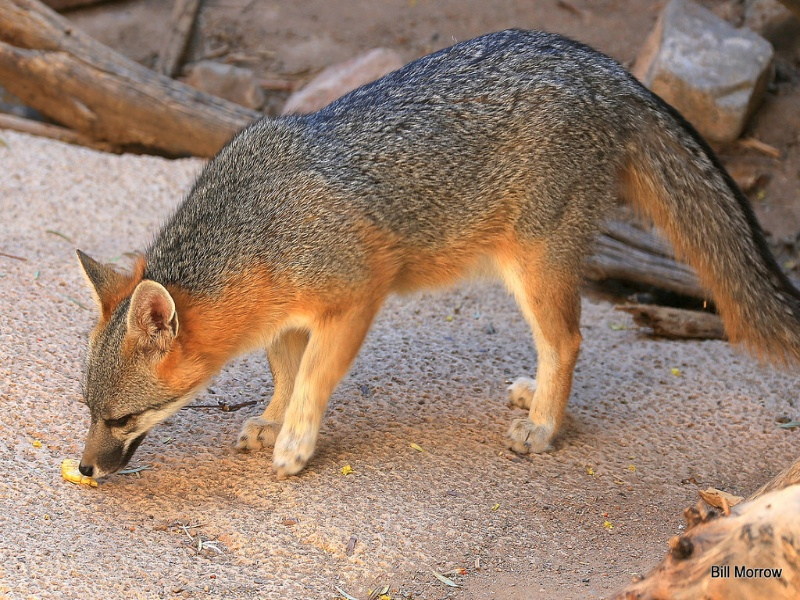fox: (73, 23, 784, 497)
